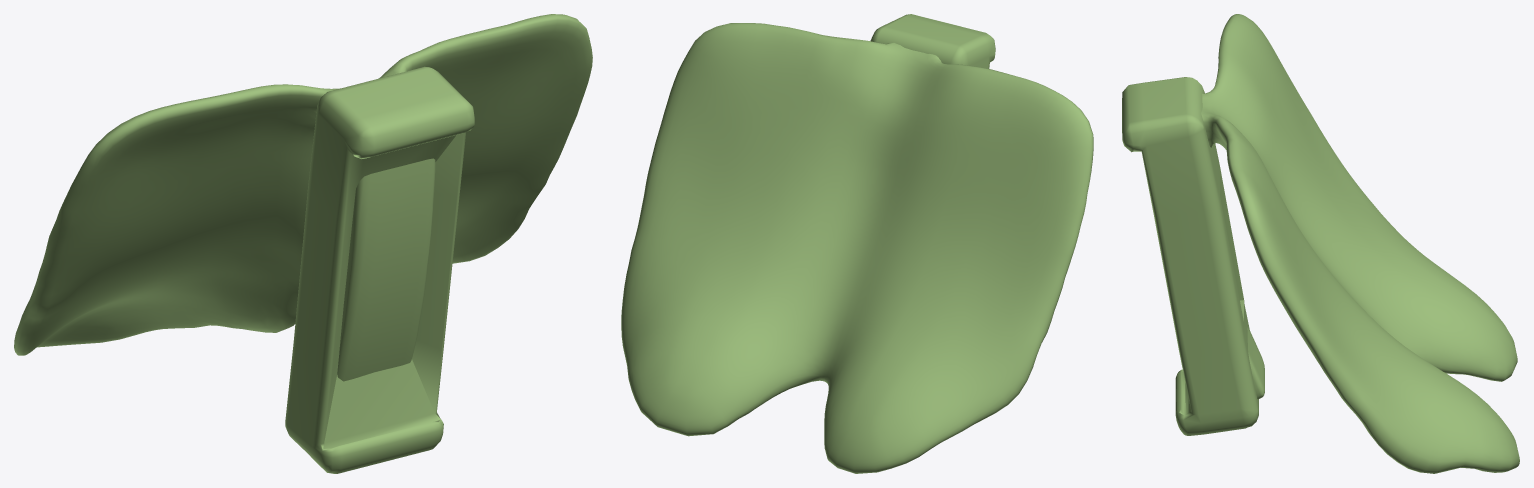
The model's file is BR1_Spacers_BaguetteMetal.001 2.glb.
The picture shows the model from 3 angles, left to right: view 1: azimuth 30°, elevation 25°; view 2: azimuth 150°, elevation 25°; view 3: azimuth 270°, elevation 25°; orthographic projection. The views are drawn at different scales.
Parts seen in each view (by area): view 1: BR1_Spacers_BaguetteMetal.001; view 2: BR1_Spacers_BaguetteMetal.001; view 3: BR1_Spacers_BaguetteMetal.001.
Part boxes in pixels (x1,y1,x2,y2): BR1_Spacers_BaguetteMetal.001: (14, 14, 592, 473); BR1_Spacers_BaguetteMetal.001: (621, 14, 1093, 473); BR1_Spacers_BaguetteMetal.001: (1122, 14, 1519, 473).
Size of the model in its own units: 1.05 by 0.7335 by 0.8208.
